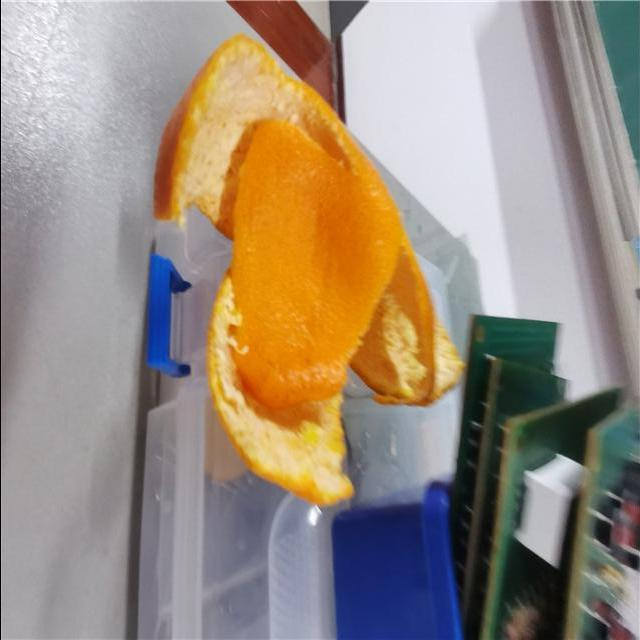orange peel: (141, 24, 483, 509)
